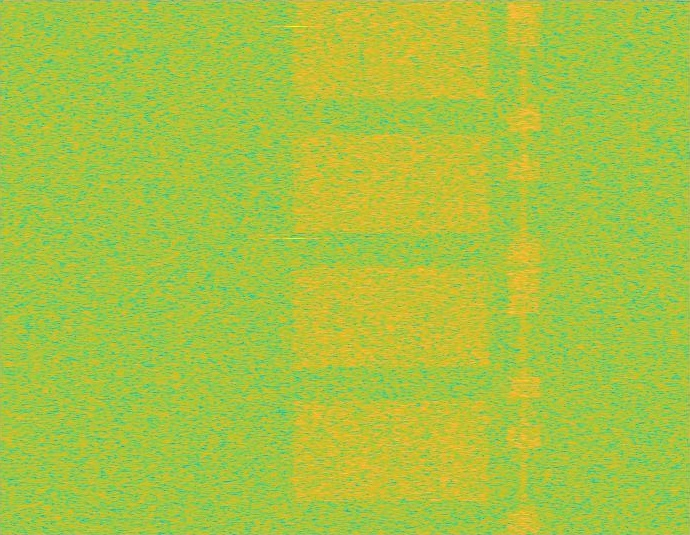5G: (288, 0, 495, 534)
DSSS: (520, 0, 528, 534)
LTE: (507, 0, 541, 534)
Radar: (289, 0, 303, 534)
